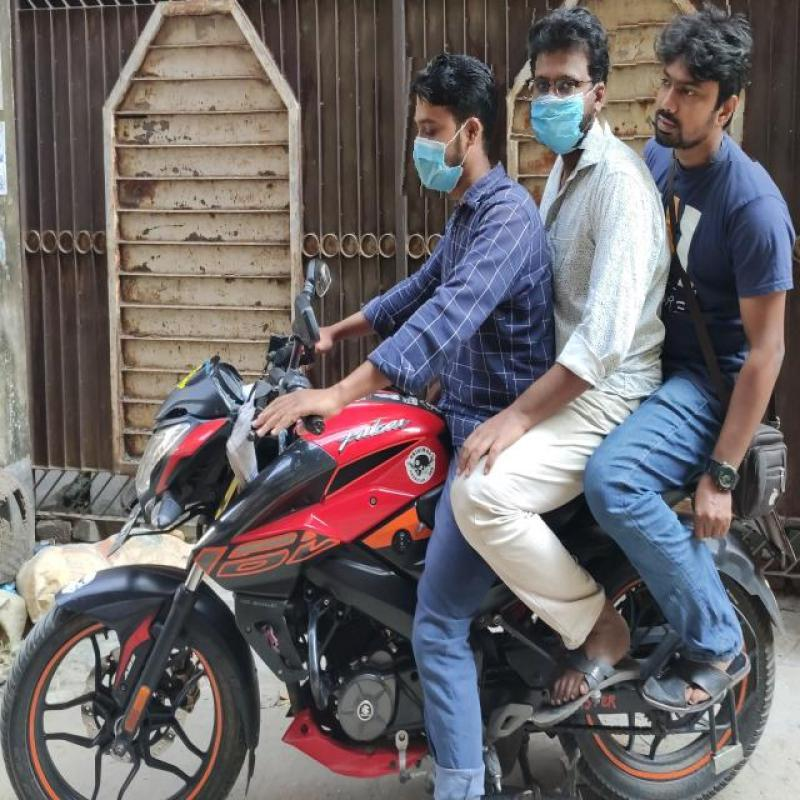nohelmet: (634, 3, 761, 162), (397, 58, 504, 201), (511, 10, 615, 148)
